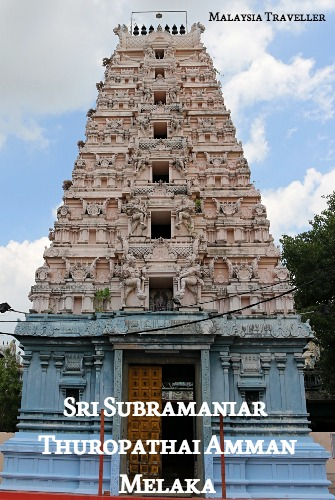Hindu Temple: (40, 5, 304, 489)
